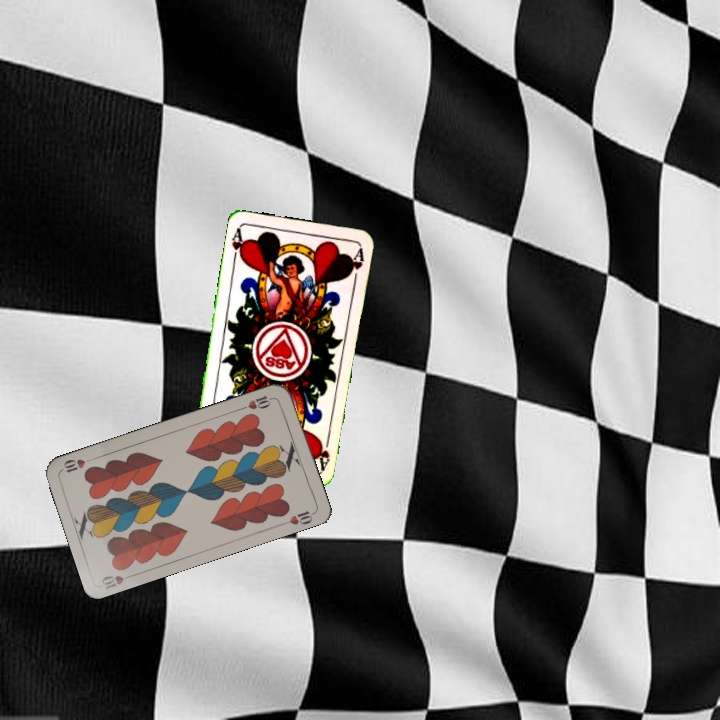H10: (97, 570, 138, 592), (237, 391, 277, 412)
HA: (228, 223, 248, 264), (314, 430, 333, 471)
